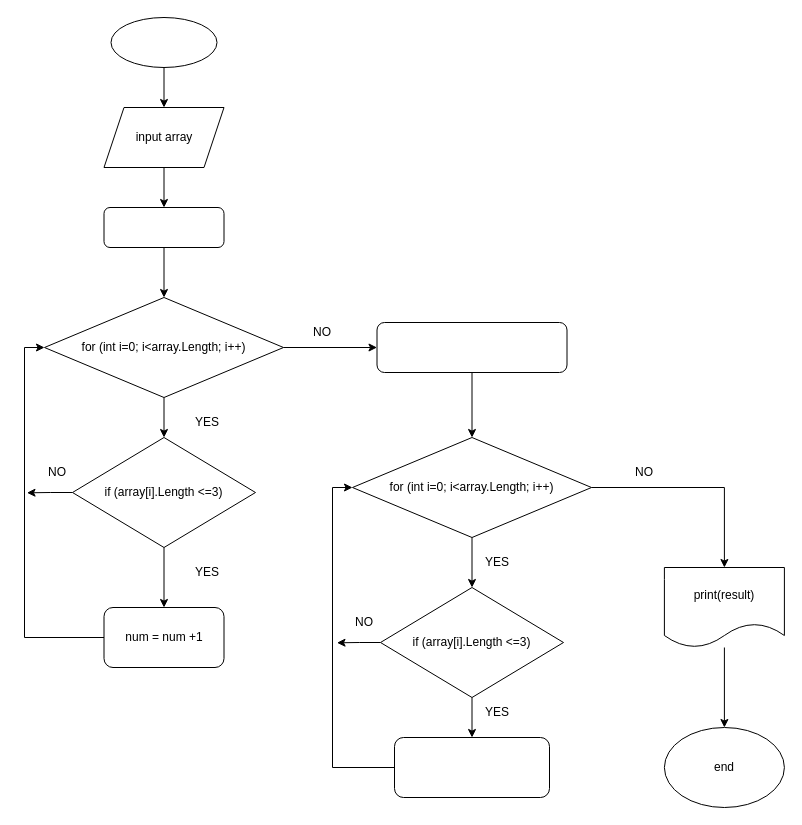
The diagram is 802 pixels wide and 825 high, and some of its shapes have lost their labels. Here are the shapes that lost their labels. From the top down, the centre of each, then its label:
pixel 163 42: Start
pixel 163 227: int num = 0
pixel 471 347: string[] result = new string[num] int count = 0
pixel 472 767: result[count] = array[i] count = count +1
